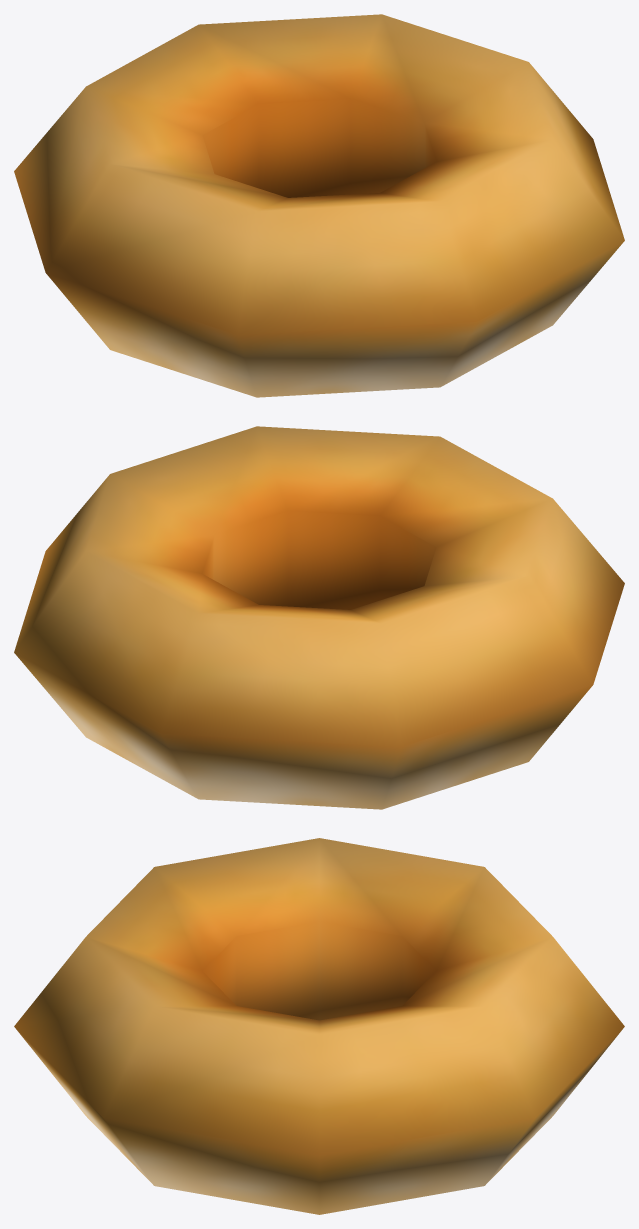
File: Donut.fbx
3 views of the same model, one above another, from view 1: azimuth 30°, elevation 25°; view 2: azimuth 150°, elevation 25°; view 3: azimuth 270°, elevation 25° (orthographic). The views are drawn at different scales.
Visible parts, largest first — view 1: Donut; view 2: Donut; view 3: Donut.
Part boxes in pixels (bbox=[...]): Donut: bbox=[14, 14, 624, 397]; Donut: bbox=[14, 426, 624, 809]; Donut: bbox=[14, 838, 624, 1214].
Size of the model in its own units: 179 by 58.09 by 179.
